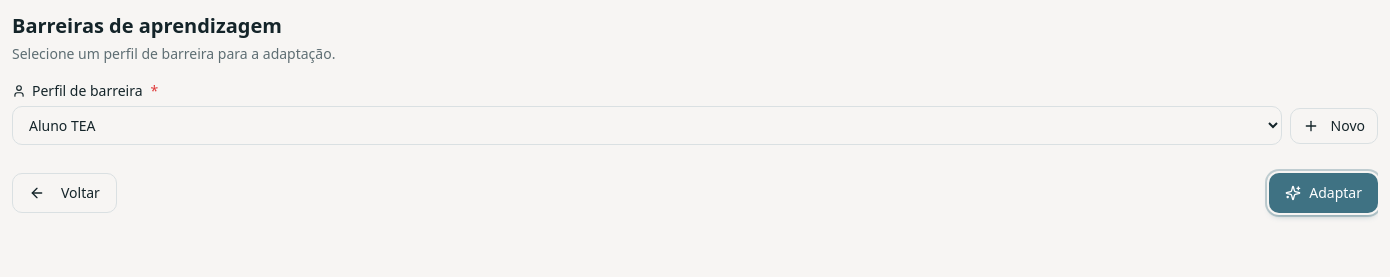
Test: StepBarrierSelection › shows error when profile has no barriers and user clicks Adaptar
Click the button "Adaptar": click(1324, 193) [1269,173,1378,213]
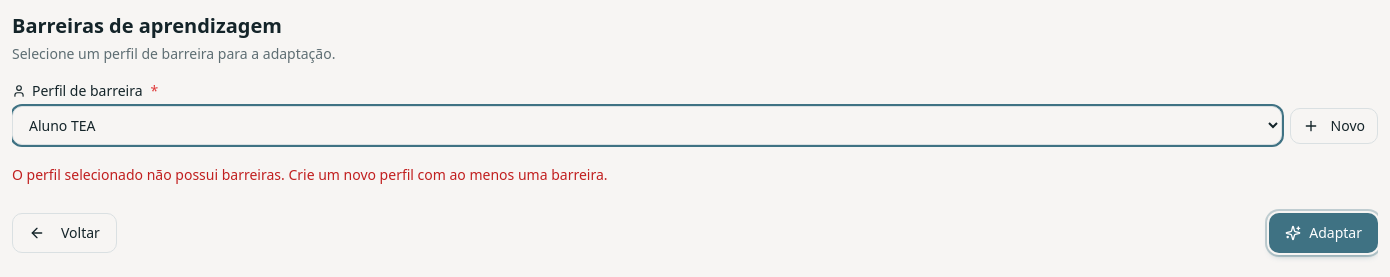
Expected: the message shows "não possui barreiras", [12,165,608,184]
